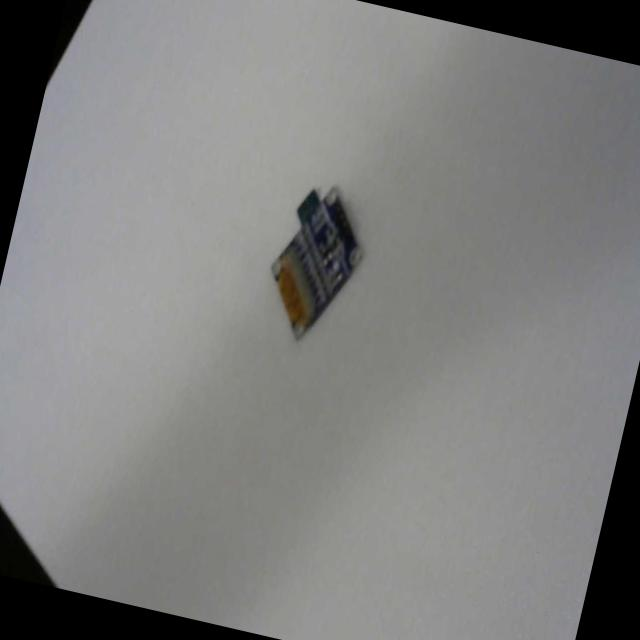oled: (250, 166, 382, 361)
